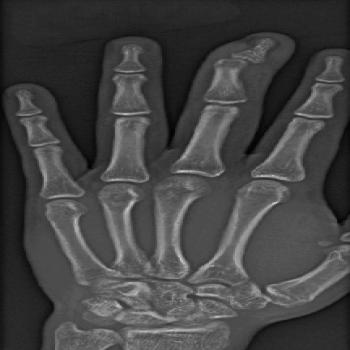Fracture: (210, 49, 258, 72)
